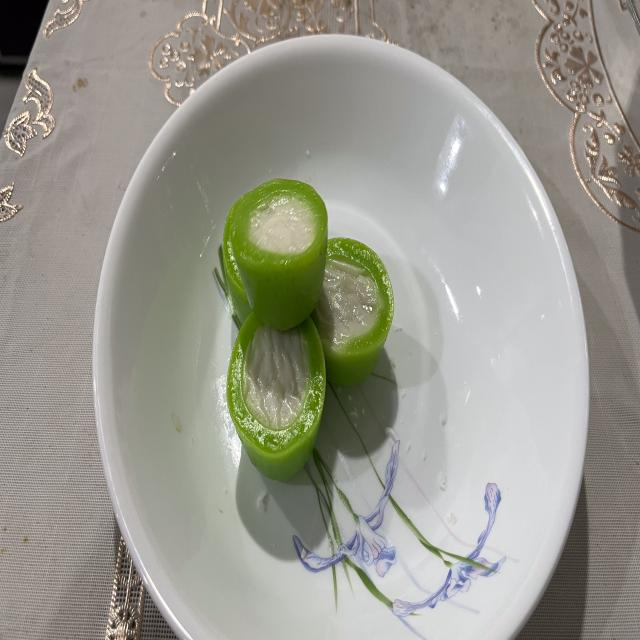nona-manis: (226, 311, 326, 480), (229, 178, 328, 331), (312, 238, 394, 387), (222, 207, 251, 322)
